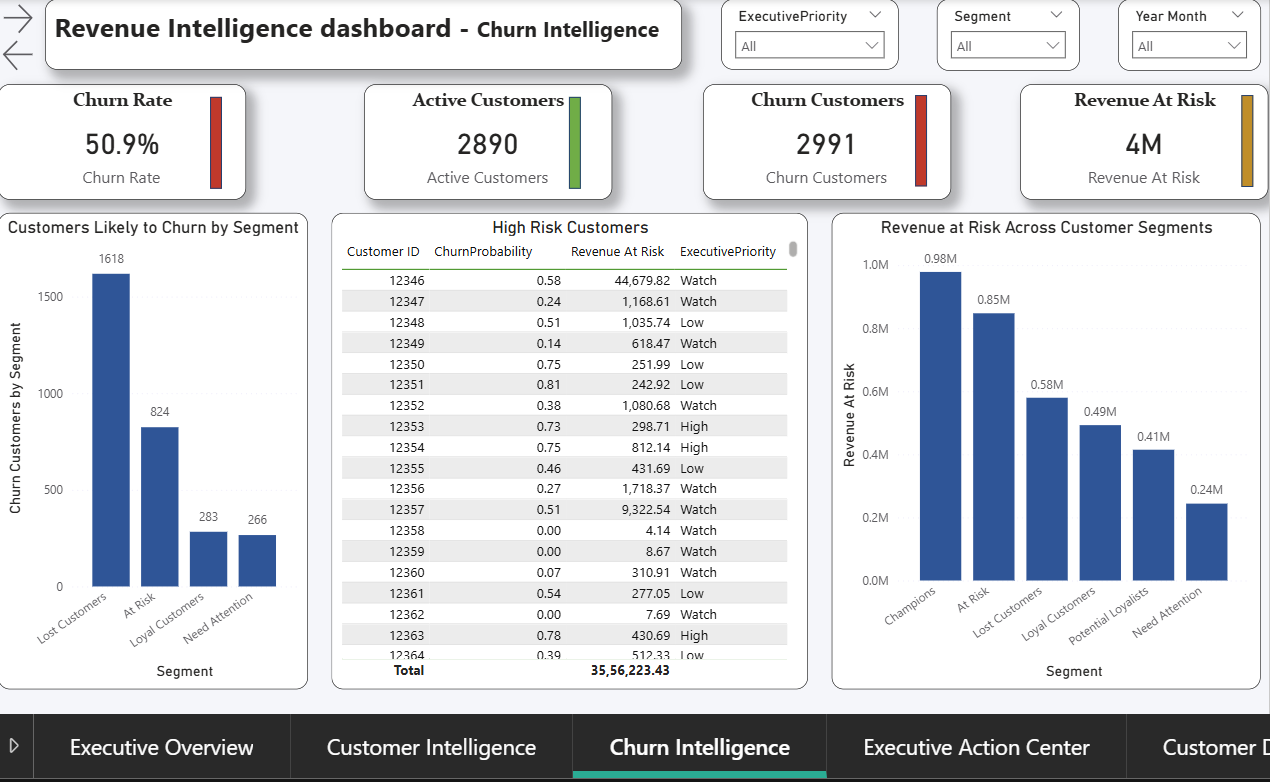

The page's visual inventory and layout, read from the dashboard file:
{"tool":"powerbi","page":{"name":"Churn Intelligence","canvas":[1280,720],"ordinal":2},"visuals":[{"type":"card","title":"Active Customers","fields":{"Values":["revenue_at_risk.Active Customers"]},"box":[368.3,86.2,249.8,116.3],"z":0},{"type":"card","title":"Churn Customers","fields":{"Values":["revenue_at_risk.Churn Customers"]},"box":[710.7,86.2,249.8,116.3],"z":1000},{"type":"card","title":"Revenue At Risk","fields":{"Values":["revenue_at_risk.Revenue At Risk"]},"box":[1029.5,86.2,249.8,116.3],"z":2000},{"type":"slicer","title":"Revenue at Risk by Executive Priority","fields":{"Values":["revenue_at_risk.ExecutivePriority"]},"box":[727.9,0,178.8,71.1],"z":3000},{"type":"slicer","fields":{"Values":["rfm_customers.Segment"]},"box":[945.3,0,144,72],"z":4000},{"type":"slicer","fields":{"Values":["monthly_business_summary.YearMonth"]},"box":[1128,0,144,72],"z":5000},{"type":"card","title":"Churn Rate","fields":{"Values":["revenue_at_risk.Churn Rate"]},"box":[0,86.2,249.8,116.3],"z":6000},{"type":"lineClusteredColumnComboChart","title":"Customers Likely to Churn by Segment","fields":{"Category":["rfm_customers.Segment"],"Y":["rfm_customers.Churn Customers by Segment"]},"box":[0,216,312,480],"z":7000},{"type":"clusteredColumnChart","title":"Revenue at Risk Across Customer Segments","fields":{"Category":["revenue_at_risk.Segment"],"Y":["revenue_at_risk.Revenue At Risk"]},"box":[840,216,432,480],"z":8000},{"type":"tableEx","title":"High Risk Customers","fields":{"Values":["revenue_at_risk.Customer ID","revenue_at_risk.ChurnProbability","revenue_at_risk.Revenue At Risk","revenue_at_risk.ExecutivePriority"]},"box":[336,216,480,480],"z":9000},{"type":"textbox","box":[47.4,0,641.8,71.1],"z":10000},{"type":"shape","box":[213.2,99.1,12,92.6],"z":11000},{"type":"shape","box":[575.1,99.1,12,92.6],"z":12000},{"type":"shape","box":[924,96.9,12,92],"z":13000},{"type":"shape","box":[1253.5,96.9,12,92.6],"z":14000},{"type":"actionButton","box":[0,0,100,40],"z":15000},{"type":"actionButton","box":[0,36.6,99.1,40.9],"z":16000}]}

Visuals, with their boxes on the page's 1280x720 design canvas (x1, y1, x2, y2). These are canvas units, not pixel positions in the 1270x782 screenshot, which may show the page scaled, cropped or inside an application window:
"Active Customers" card: 368,86,618,202
"Churn Customers" card: 711,86,960,202
"Revenue At Risk" card: 1030,86,1279,202
"Revenue at Risk by Executive Priority" slicer: 728,0,907,71
slicer - rfm_customers.Segment: 945,0,1089,72
slicer - monthly_business_summary.YearMonth: 1128,0,1272,72
"Churn Rate" card: 0,86,250,202
"Customers Likely to Churn by Segment" lineClusteredColumnComboChart: 0,216,312,696
"Revenue at Risk Across Customer Segments" clusteredColumnChart: 840,216,1272,696
"High Risk Customers" tableEx: 336,216,816,696
textbox: 47,0,689,71
shape: 213,99,225,192
shape: 575,99,587,192
shape: 924,97,936,189
shape: 1254,97,1266,190
actionButton: 0,0,100,40
actionButton: 0,37,99,78
